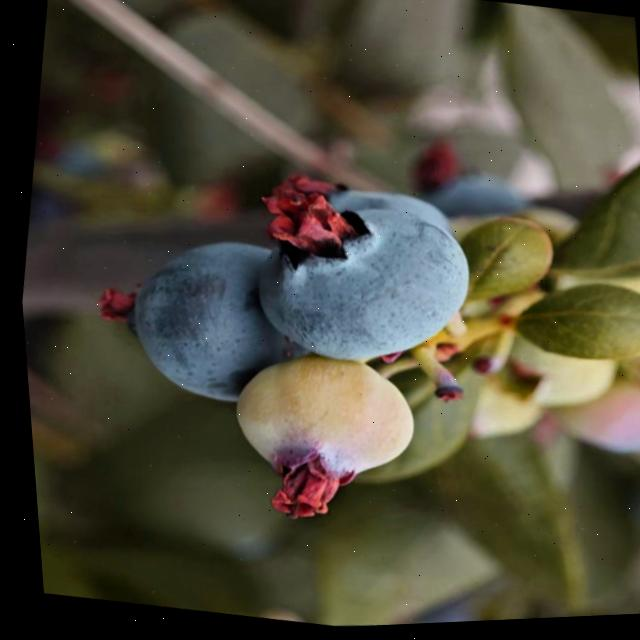RipeBlueBerry: (222, 174, 499, 398), (82, 214, 314, 432)
UnripeBlueBerry: (202, 330, 437, 517)
